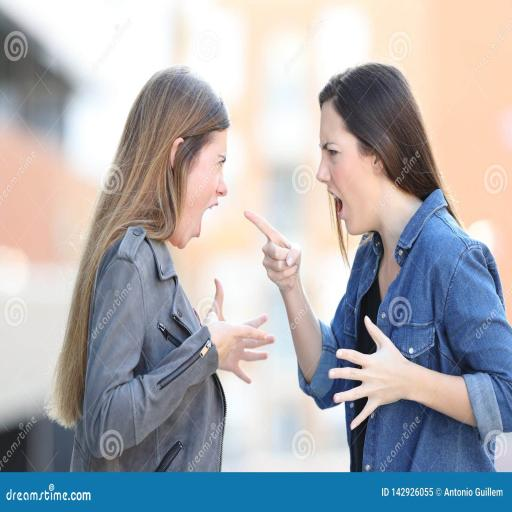fight: (70, 0, 512, 460)
